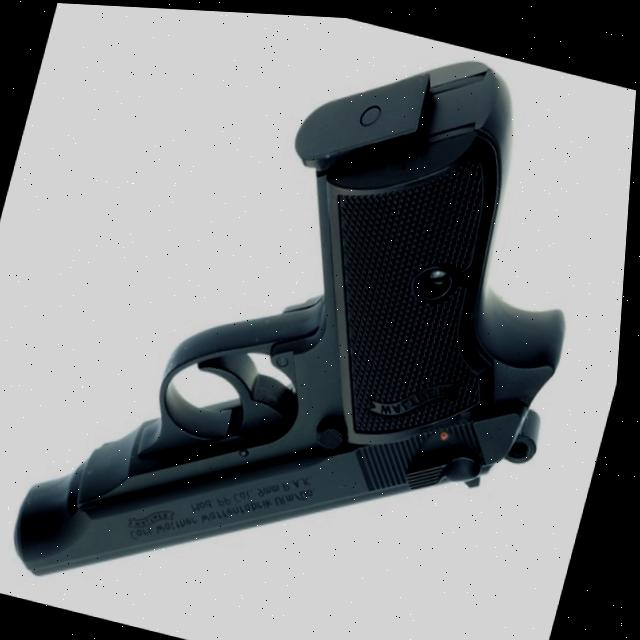pistol: (0, 1, 634, 640)
